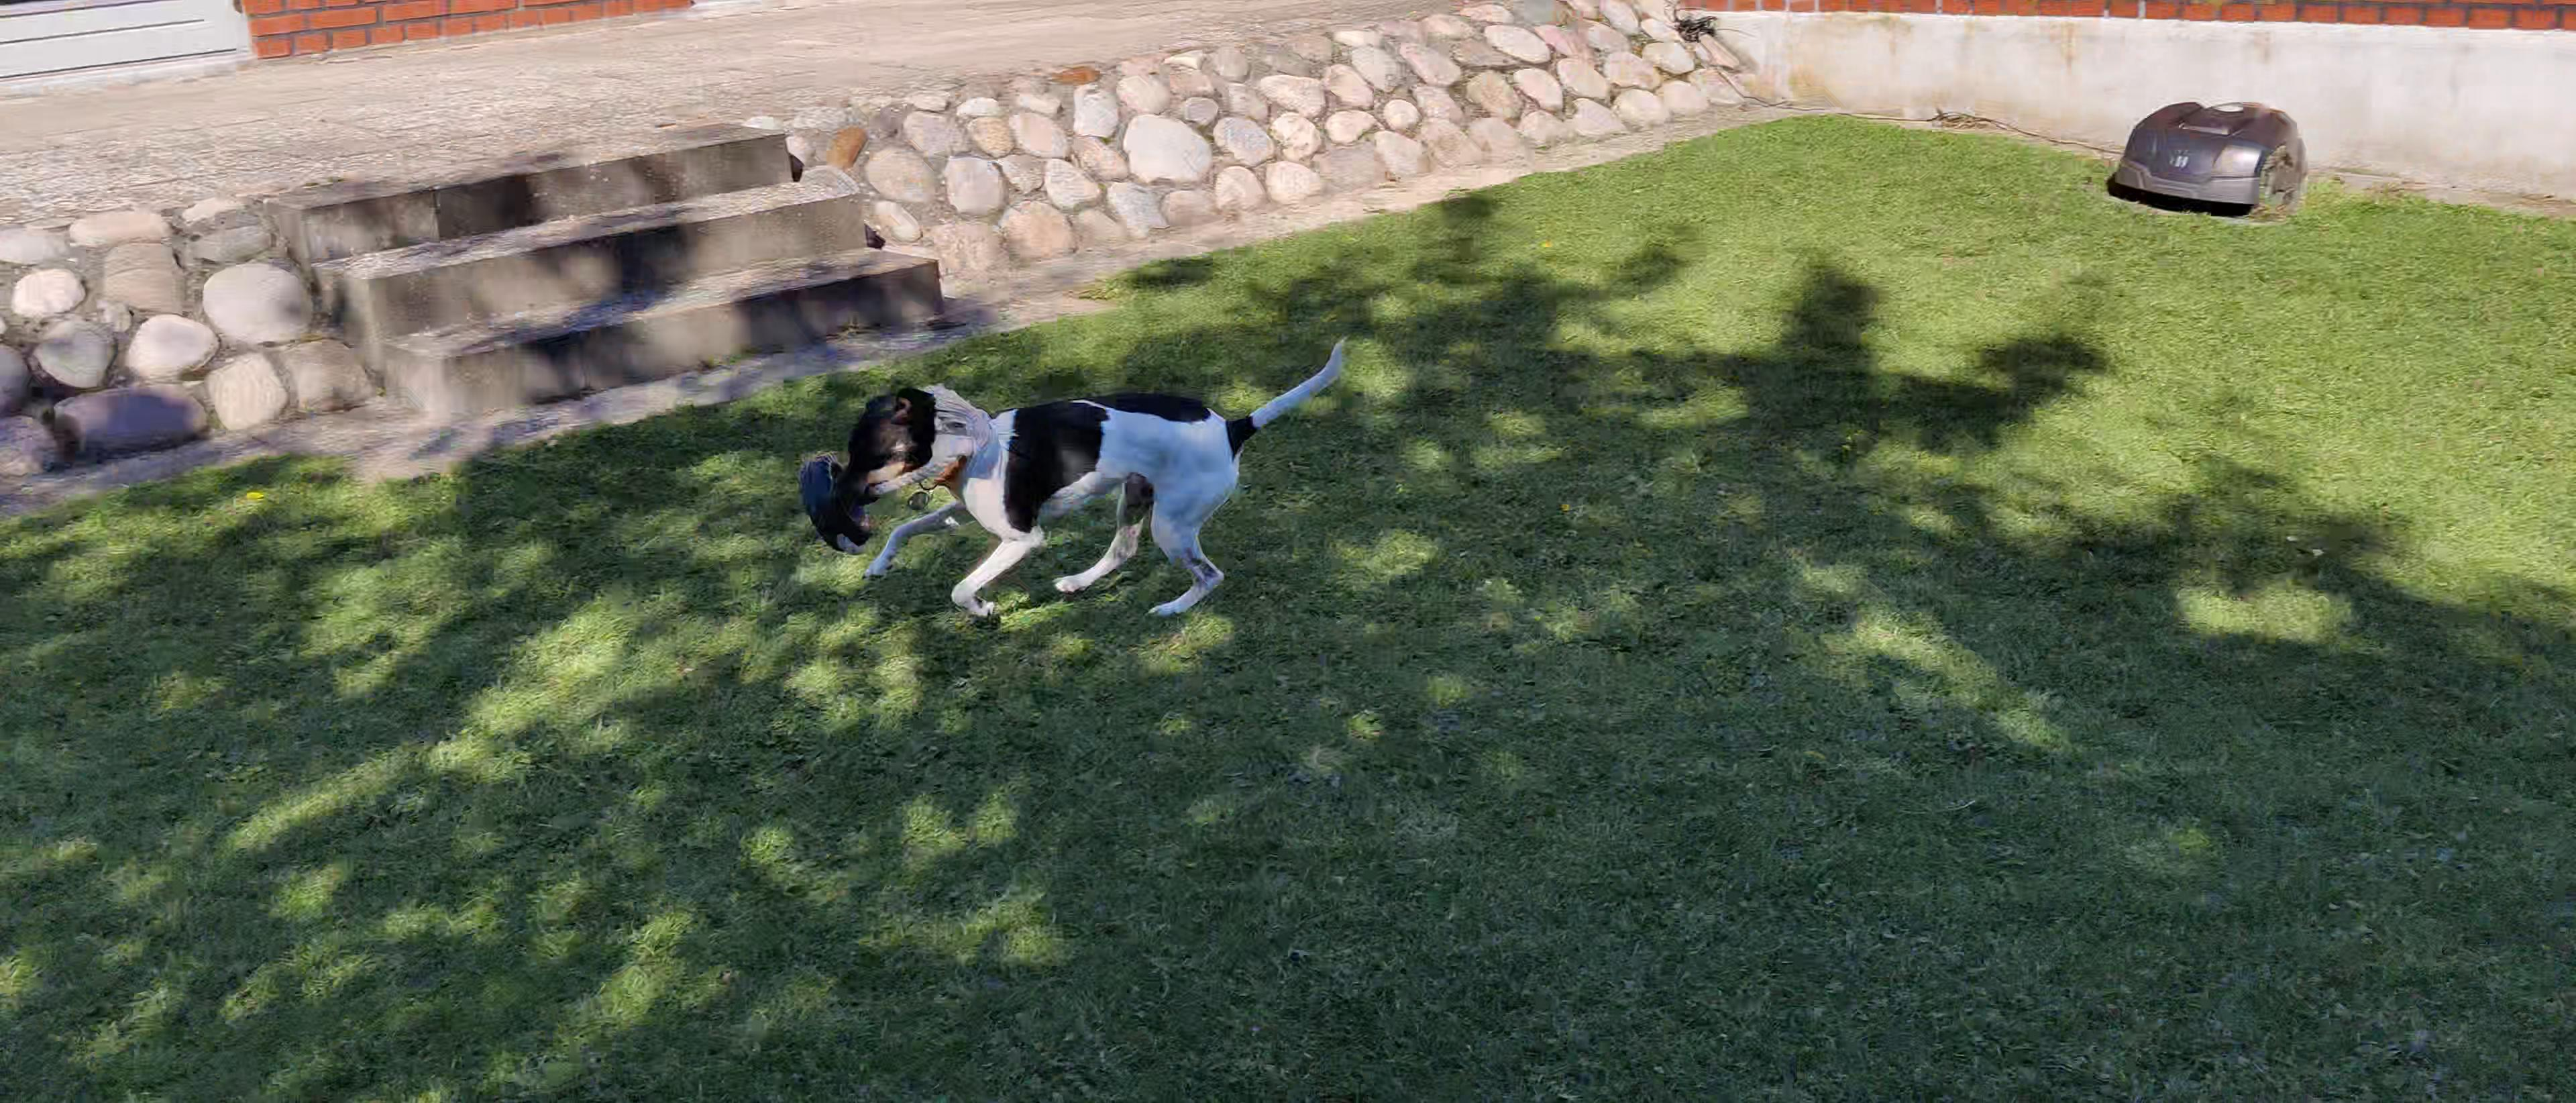Dog: (820, 294, 1349, 628)
